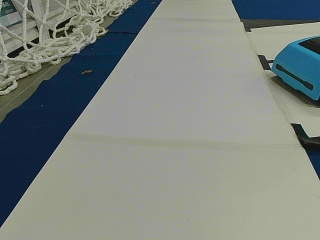car: (272, 34, 318, 101)
